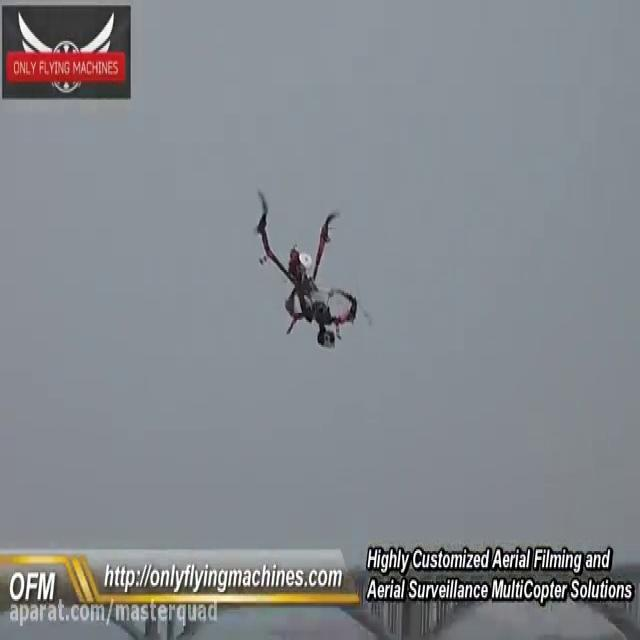drone: (249, 183, 372, 349)
